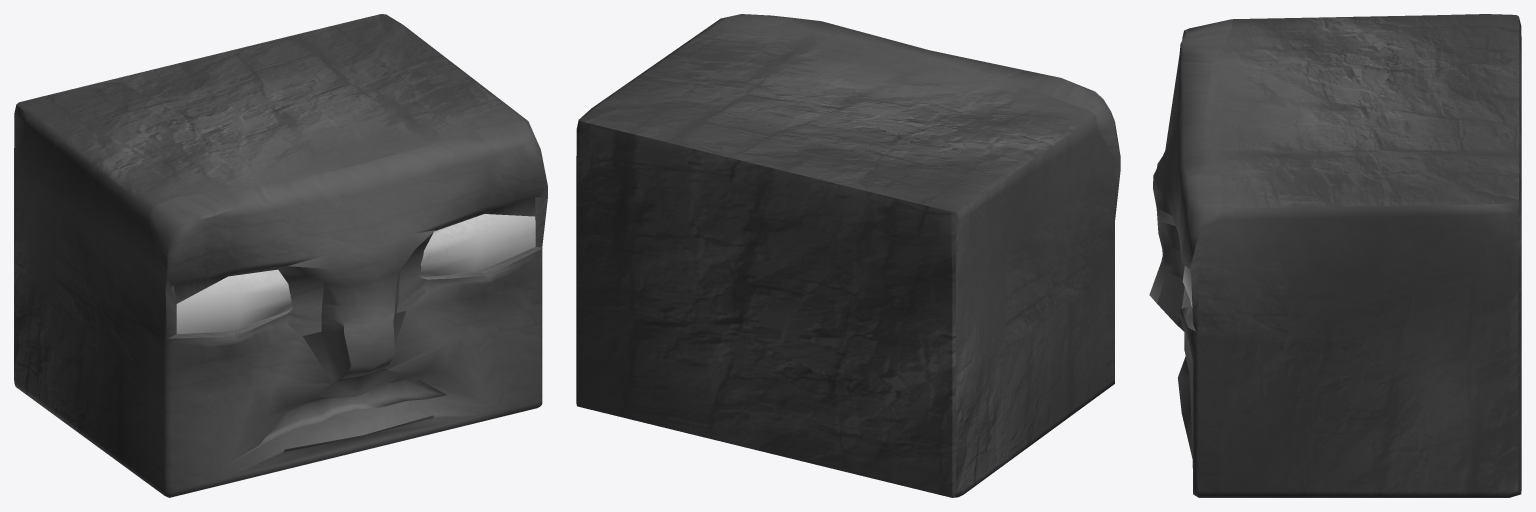
File: korossaru_asiba.fbx
3 renders of one model, left to right at view 1: azimuth 30°, elevation 25°; view 2: azimuth 150°, elevation 25°; view 3: azimuth 270°, elevation 25°, orthographic. The views are drawn at different scales.
Visible parts, largest first — view 1: polySurface9, polySurface8, polySurface7; view 2: polySurface9; view 3: polySurface9.
Part boxes in pixels (<box>): polySurface9: <box>14,14,547,497</box>; polySurface8: <box>176,269,292,334</box>; polySurface7: <box>420,214,535,277</box>; polySurface9: <box>576,14,1120,497</box>; polySurface9: <box>1149,14,1521,497</box>.
Bounding box in the file's own units: 1.4 × 0.9993 × 1.13.
2 materials, 2 textured.
